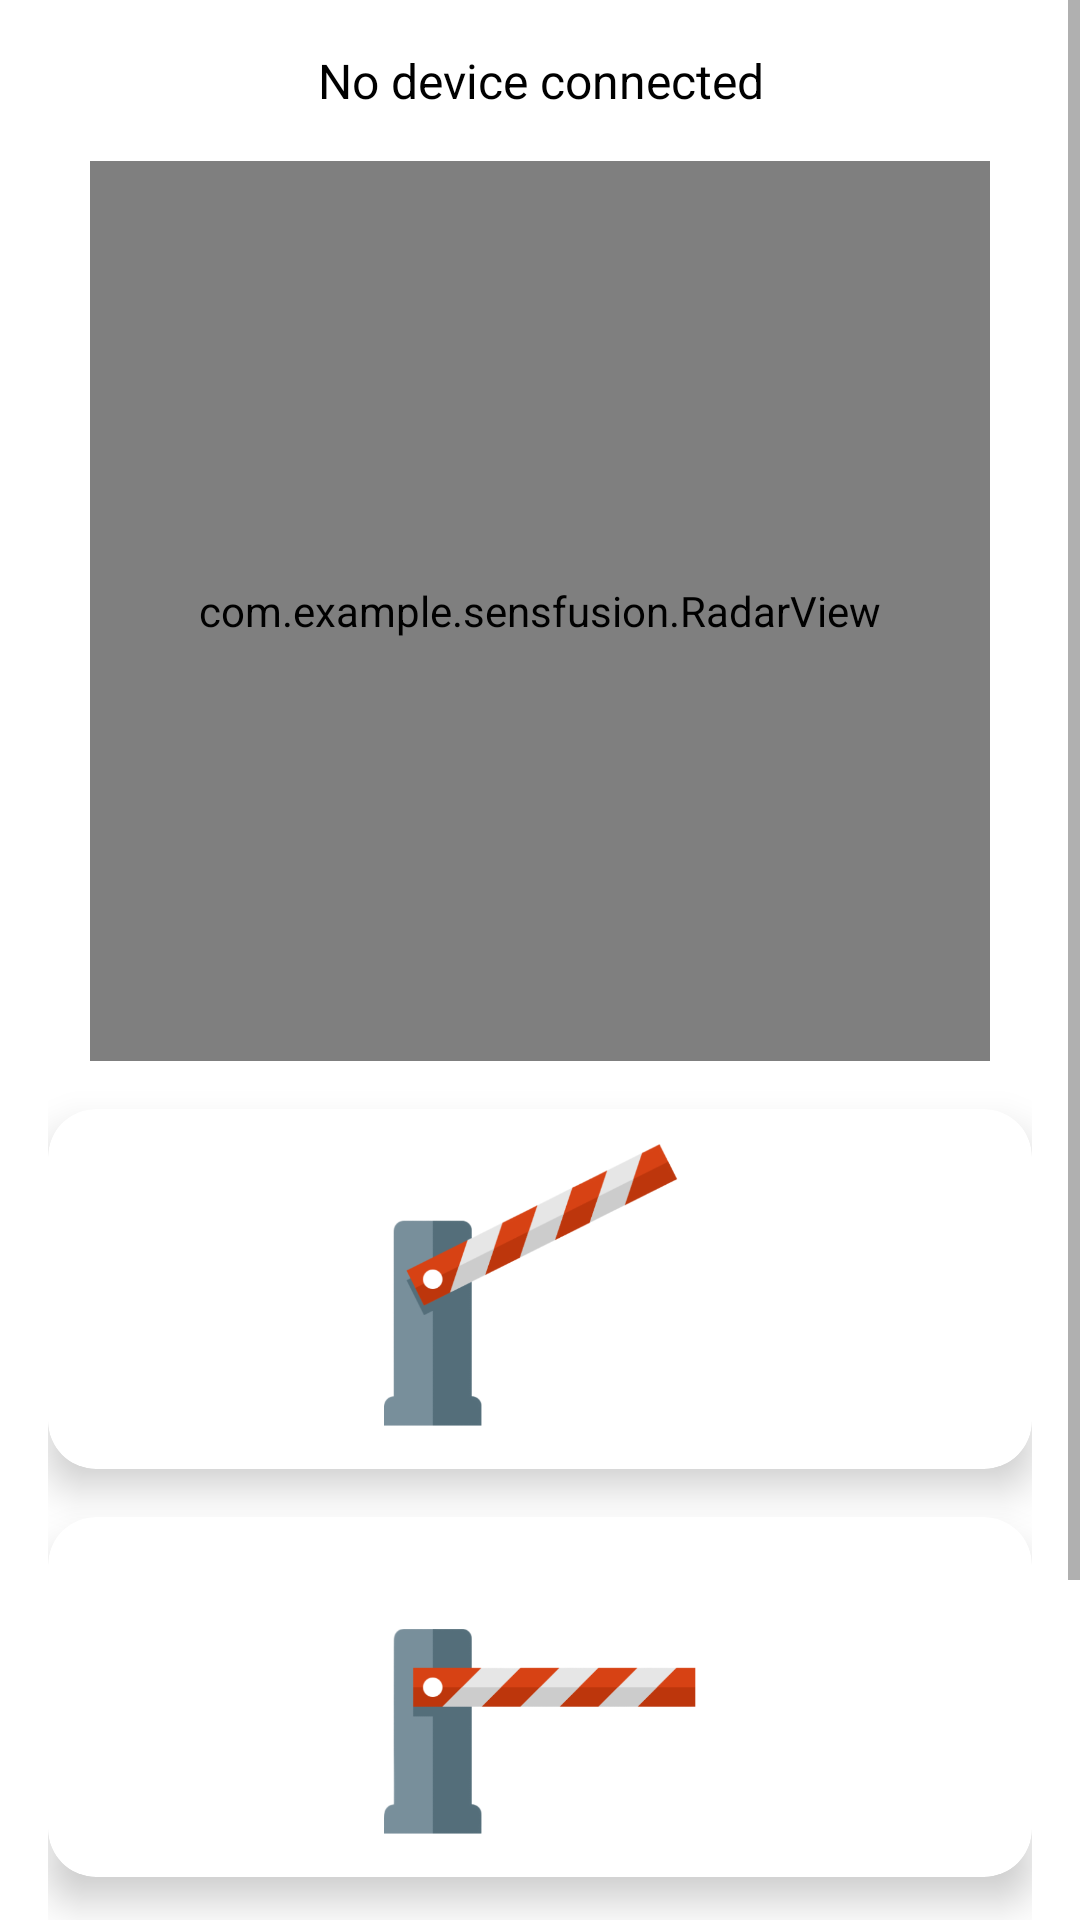

Icons on this 1080 x 1920 Android screen, each with its box as (x1, y1, x2, y2):
Close Barrier: (384, 1629, 696, 1834)
Open Barrier: (384, 1144, 677, 1426)
